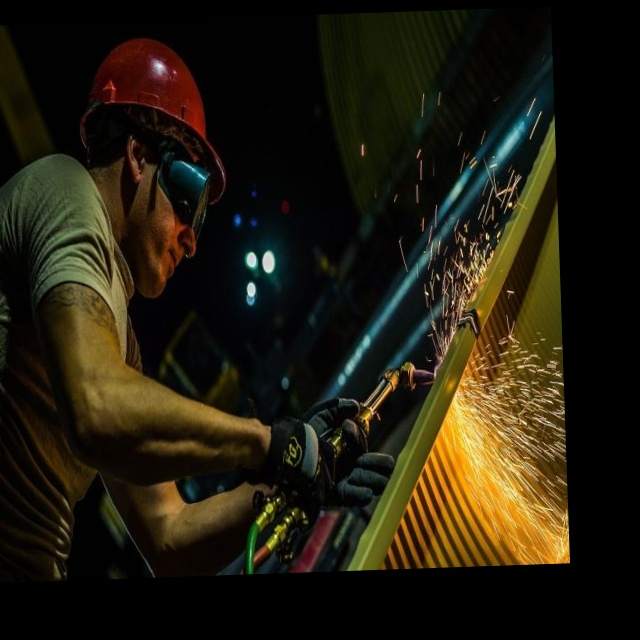Con_Casco: (83, 33, 226, 292)
